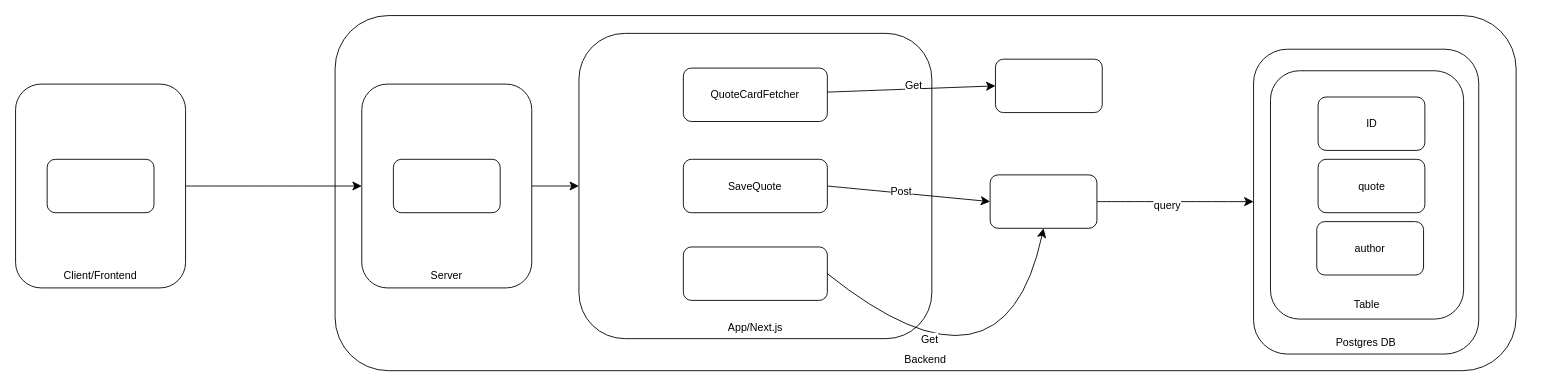
Image size: 1545x386. Some labels were removed from this diagram. Here are the shapes that lost their labels. From the top down, the centre of each, then its label:
the point at 1048,85: External Quote API
the point at 100,185: React.js
the point at 446,185: Vercel
the point at 1043,201: /api/quotes
the point at 754,273: LoadQuoteList
